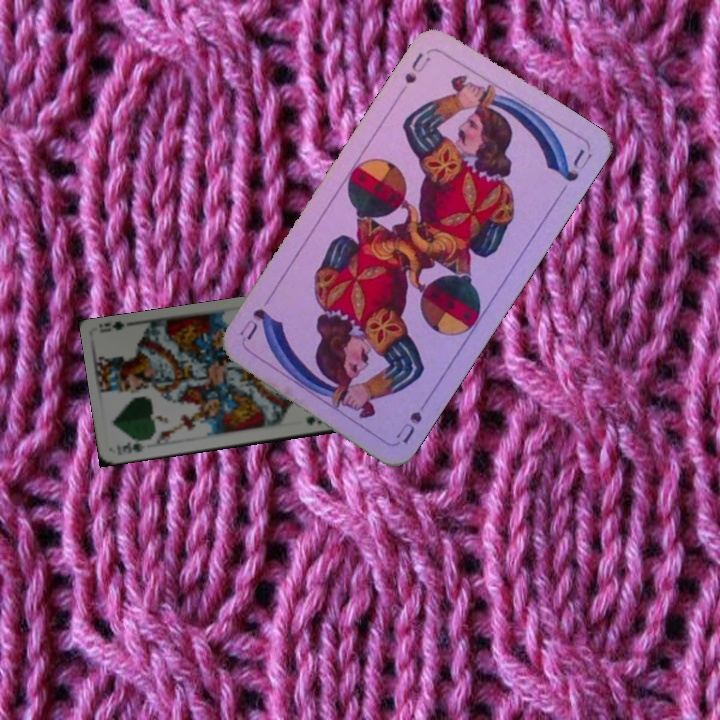GK: (118, 438, 147, 456)
SU: (392, 392, 431, 446), (394, 48, 434, 98)
